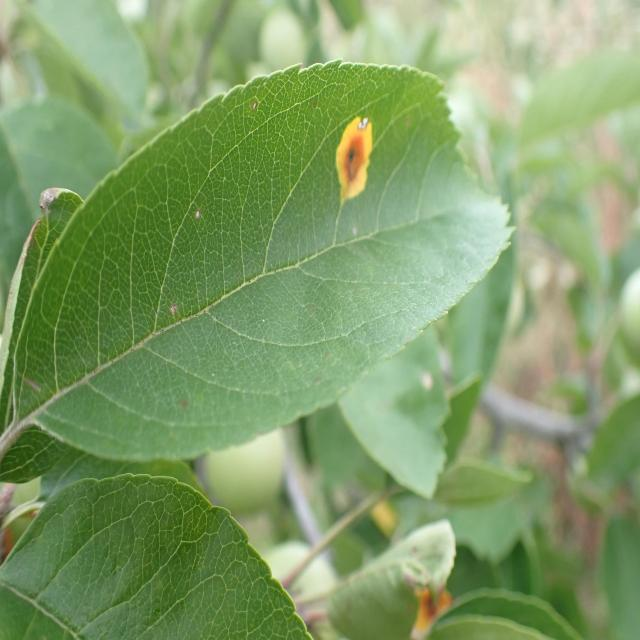Rust: (320, 106, 384, 212)
